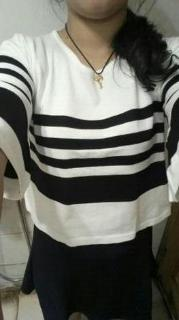long sleeve top: (0, 30, 179, 247)
skirt: (21, 217, 153, 319)
